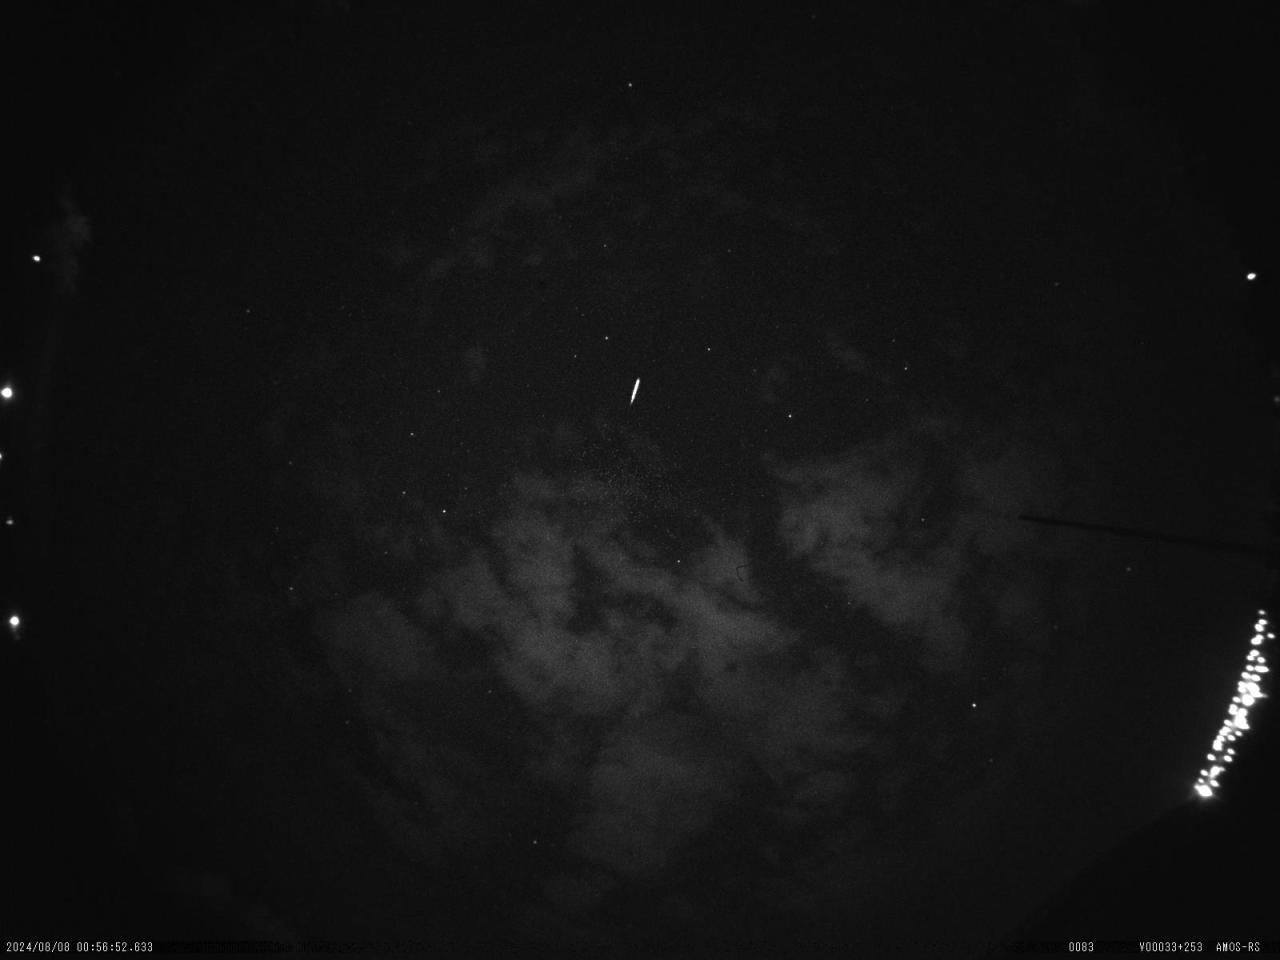Meteor: (627, 375, 640, 405)
